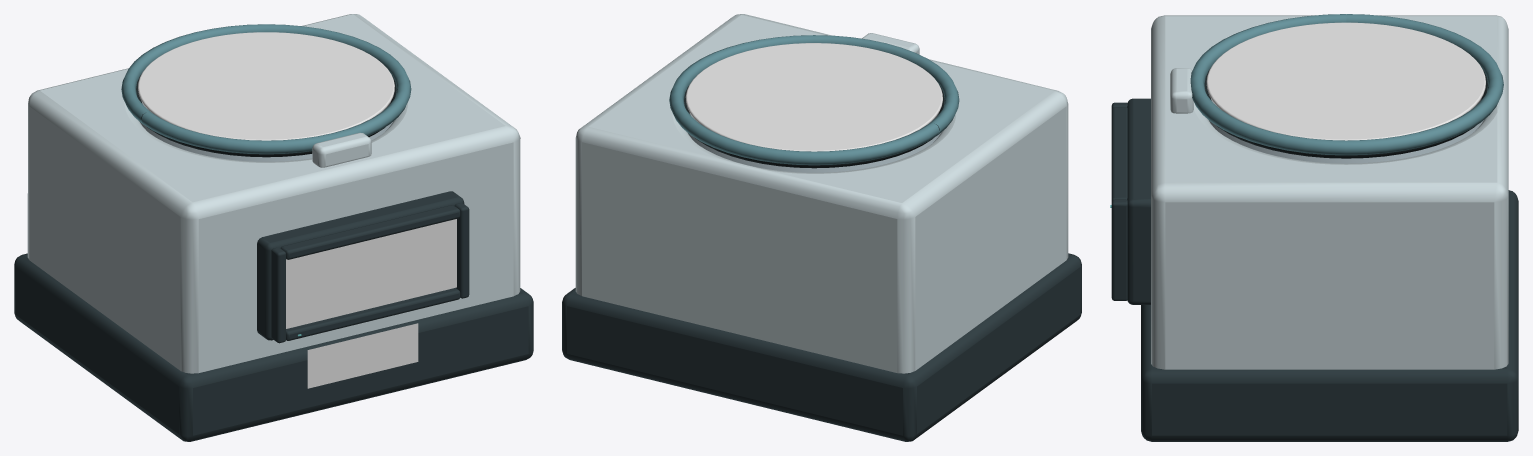
File: CP_Centrifuge.fbx
3 views of the same model, side by side, from view 1: azimuth 30°, elevation 25°; view 2: azimuth 150°, elevation 25°; view 3: azimuth 270°, elevation 25° (orthographic). The views are drawn at different scales.
Visible parts, largest first — view 1: CP_Centrifuge; view 2: CP_Centrifuge; view 3: CP_Centrifuge.
Part boxes in pixels (x1,y1,x2,y2): CP_Centrifuge: (14, 14, 533, 441); CP_Centrifuge: (562, 14, 1081, 441); CP_Centrifuge: (1110, 14, 1518, 441).
Bounding box in the file's own units: 67 × 45.7 × 61.6.
